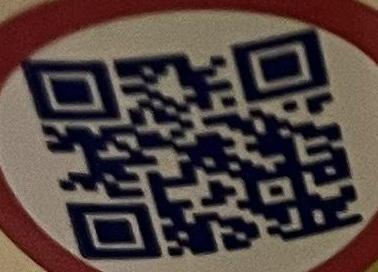qrcode: (21, 28, 365, 261)
